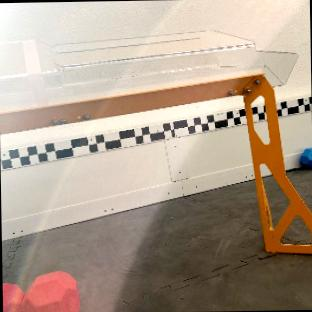V5_RED: (2, 271, 78, 312)
